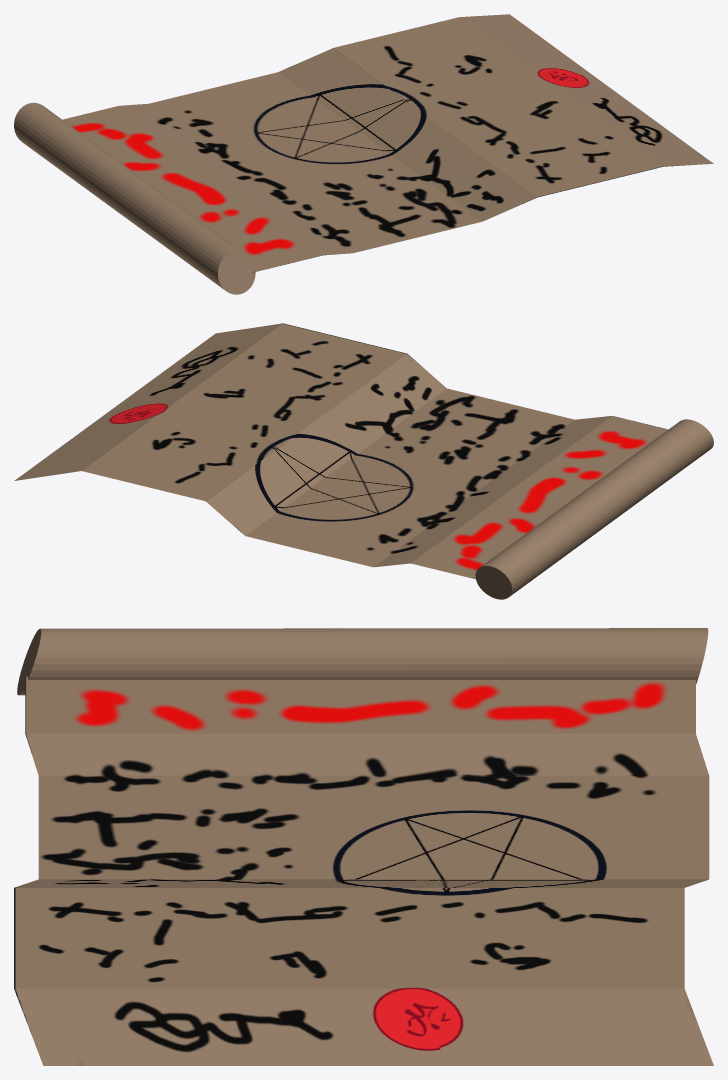
File: summoningscroll.fbx
The picture shows the model from 3 angles, top to bottom: view 1: azimuth 30°, elevation 25°; view 2: azimuth 150°, elevation 25°; view 3: azimuth 270°, elevation 25°; orthographic projection. The views are drawn at different scales.
Visible parts, largest first — view 1: Plane, Cylinder; view 2: Plane, Cylinder; view 3: Plane, Cylinder.
Boxes of the visible parts, x1,y1,x2,y2 form: Plane: [63, 14, 713, 272]; Cylinder: [14, 102, 255, 294]; Plane: [14, 323, 668, 579]; Cylinder: [475, 419, 713, 599]; Plane: [14, 676, 713, 1065]; Cylinder: [17, 628, 708, 695].
Bounding box in the file's own units: 1412 × 101 × 1043.
